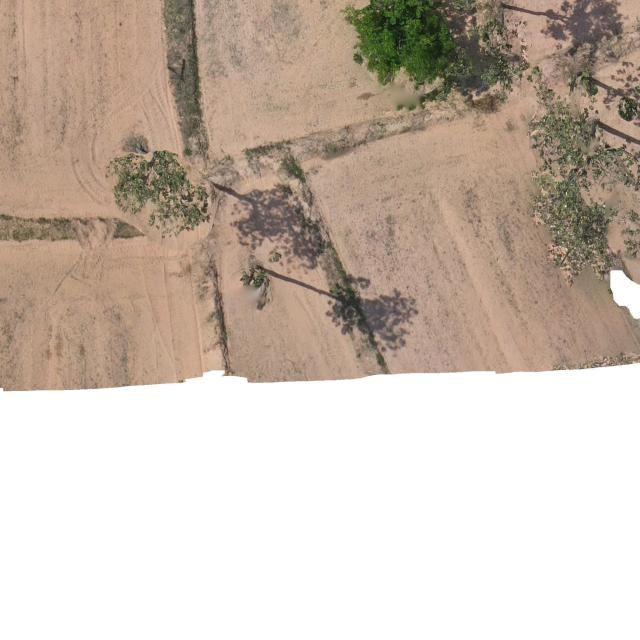Tree: (522, 65, 640, 196), (338, 0, 471, 92), (527, 172, 617, 288), (103, 147, 211, 243), (456, 1, 530, 100)
